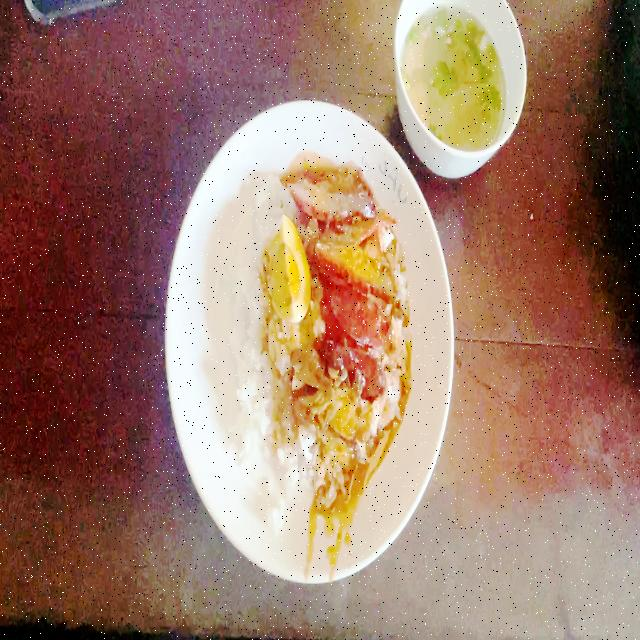boiled_egg: (265, 218, 314, 322)
chainese_sausage: (321, 287, 394, 388)
crispy_pork: (304, 386, 367, 466)
red_pork: (303, 163, 405, 279)
red_pork_and_crispy_pork: (224, 158, 412, 525)
rice: (239, 322, 308, 498), (234, 240, 264, 331), (252, 177, 286, 236)
